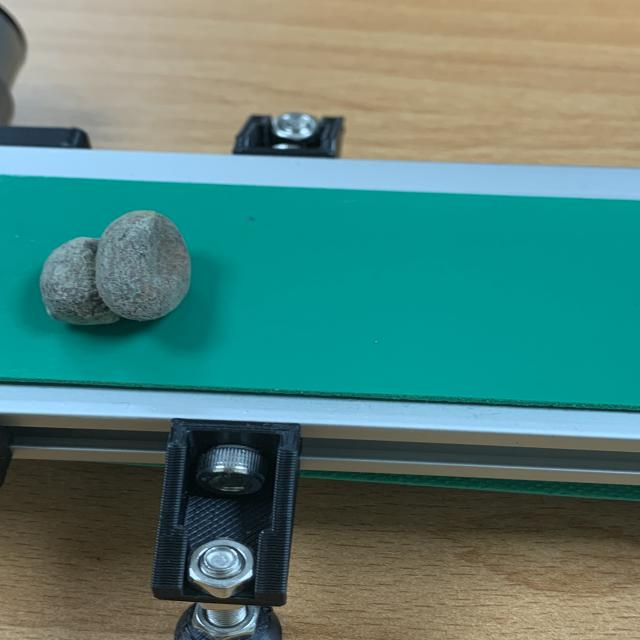Agglomerated_cocoabeans: (0, 204, 282, 373)
